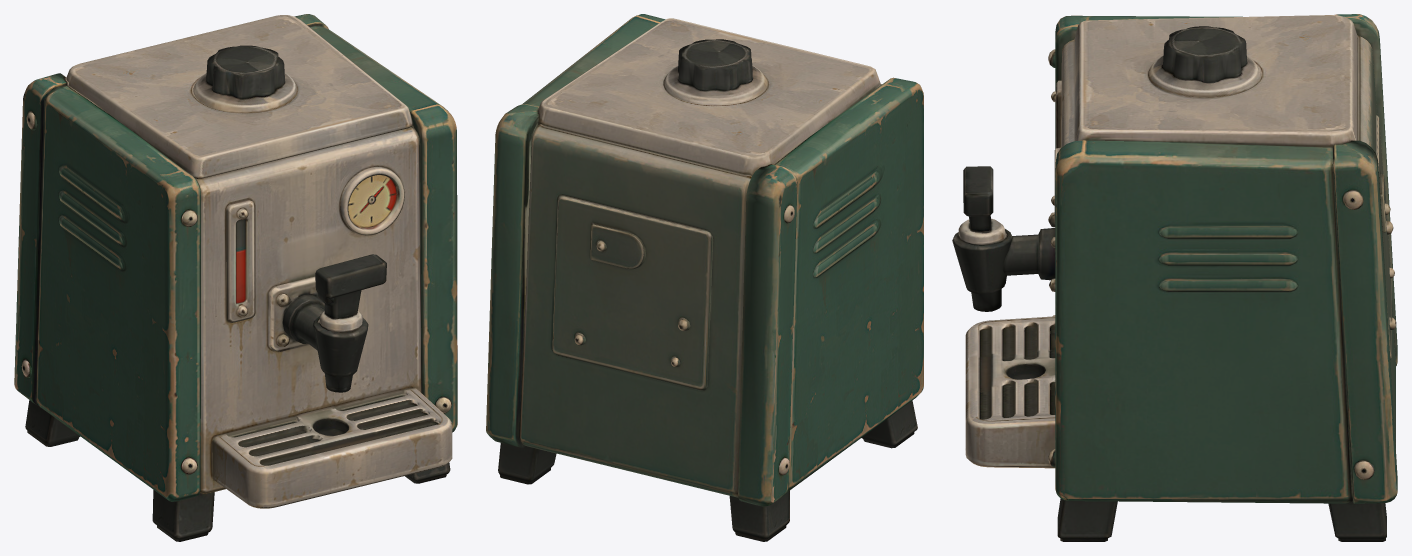
The model's file is P20_water_boiler_Runtime_1k.glb.
The picture shows the model from 3 angles, left to right: view 1: azimuth 30°, elevation 25°; view 2: azimuth 150°, elevation 25°; view 3: azimuth 270°, elevation 25°; orthographic projection. The views are drawn at different scales.
Visible parts, largest first — view 1: tripo_node_a5229963; view 2: tripo_node_a5229963; view 3: tripo_node_a5229963.
Part boxes in pixels (x1,y1,x2,y2): tripo_node_a5229963: (14, 14, 457, 541); tripo_node_a5229963: (486, 14, 923, 541); tripo_node_a5229963: (952, 14, 1397, 541).
Size of the model in its own units: 0.3707 by 0.48 by 0.4505.
Materials: 1 (1 with a texture image).
